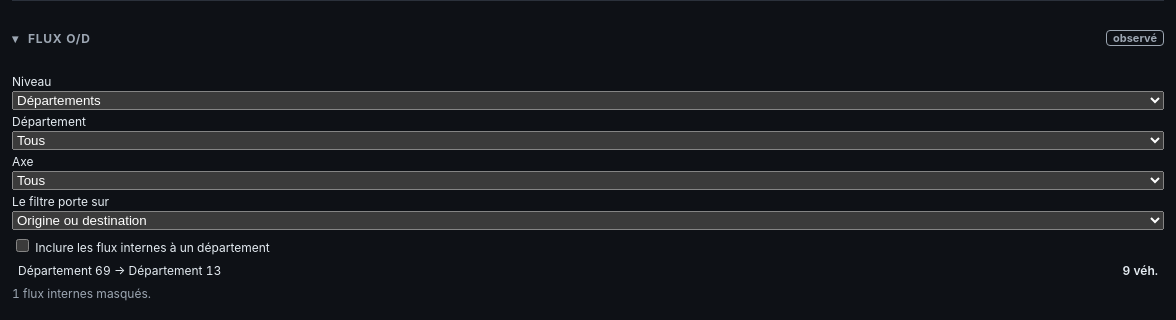
Test: OdPanel › shows the internal flows on request
What coordinates should you click on to do the following:
click the checkbox labelled "Inclure les flux internes à un département"
I would click on:
 (22, 245)
Its box is x1=16 y1=239 x2=29 y2=252.
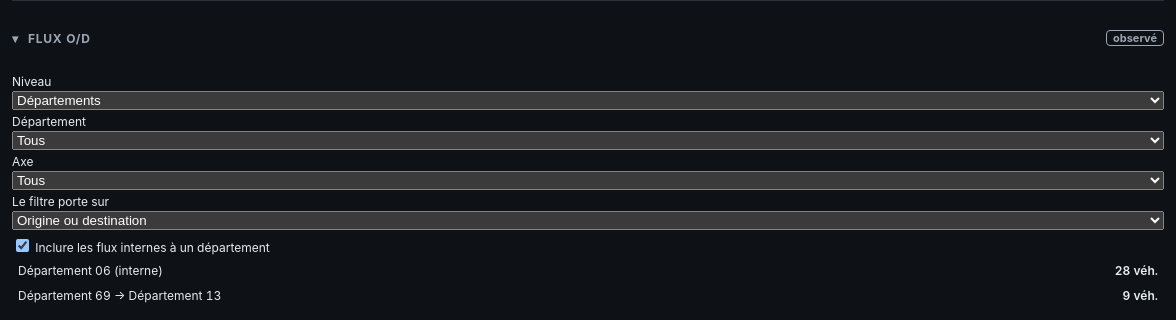
Check: the list named "Principaux flux" shows "Département 06 (interne)", box x1=12 y1=259 x2=1164 y2=282
